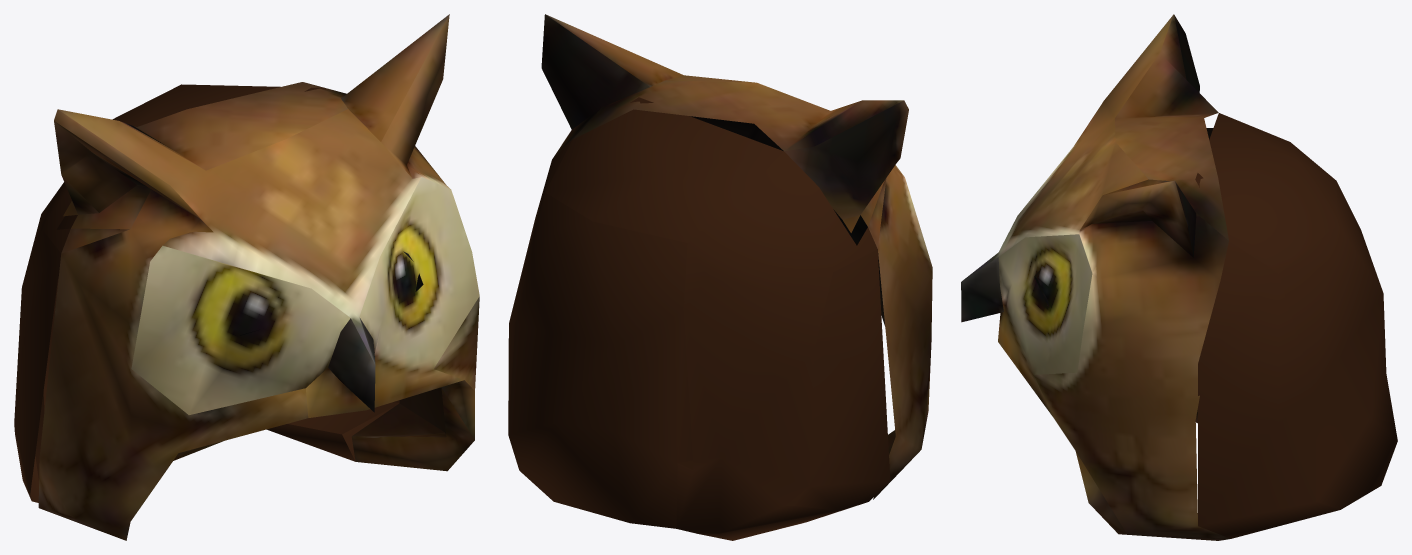
The model's file is owl.glb.
3 views of the same model, side by side, from view 1: azimuth 30°, elevation 25°; view 2: azimuth 150°, elevation 25°; view 3: azimuth 270°, elevation 25° (orthographic). The views are drawn at different scales.
Parts seen in each view (by area): view 1: geometry_0; view 2: geometry_0; view 3: geometry_0.
Part boxes in pixels (x1,y1,x2,y2): geometry_0: (14,14,479,540); geometry_0: (508,14,932,540); geometry_0: (961,14,1397,540).
Size of the model in its own units: 0.4858 by 0.5166 by 0.5228.
2 materials, 1 textured.
